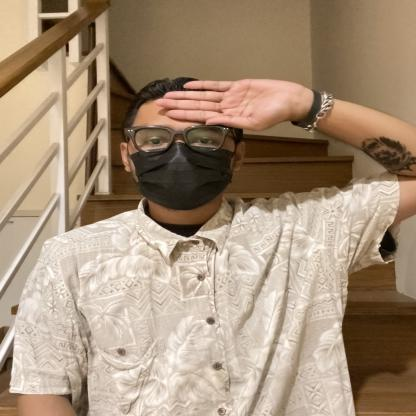Sick: (71, 68, 374, 167)
